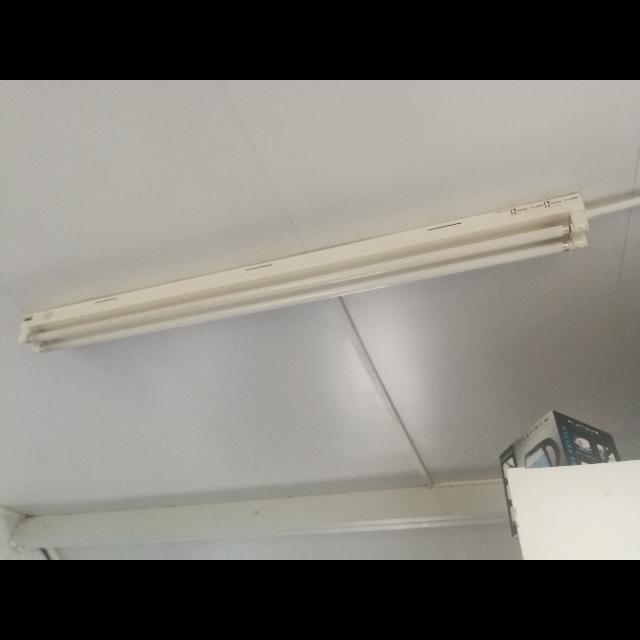Straight-Tube-Fluorescent-Lamp: (15, 182, 599, 366)
